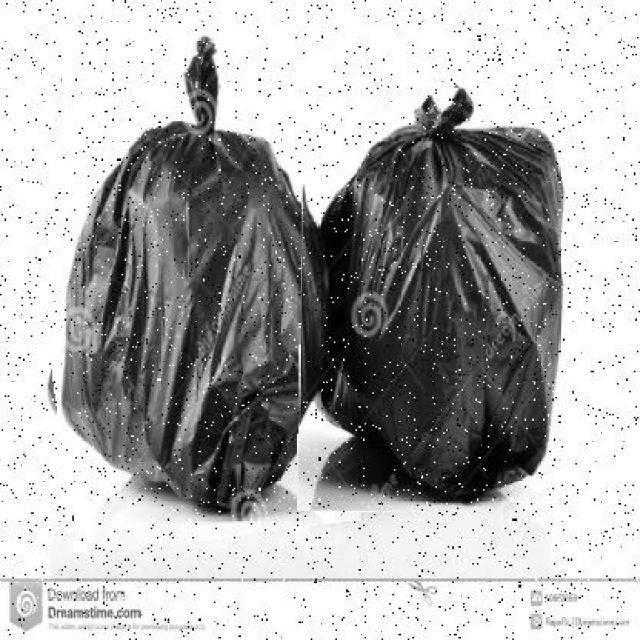waste: (28, 24, 347, 547), (298, 87, 568, 513)
